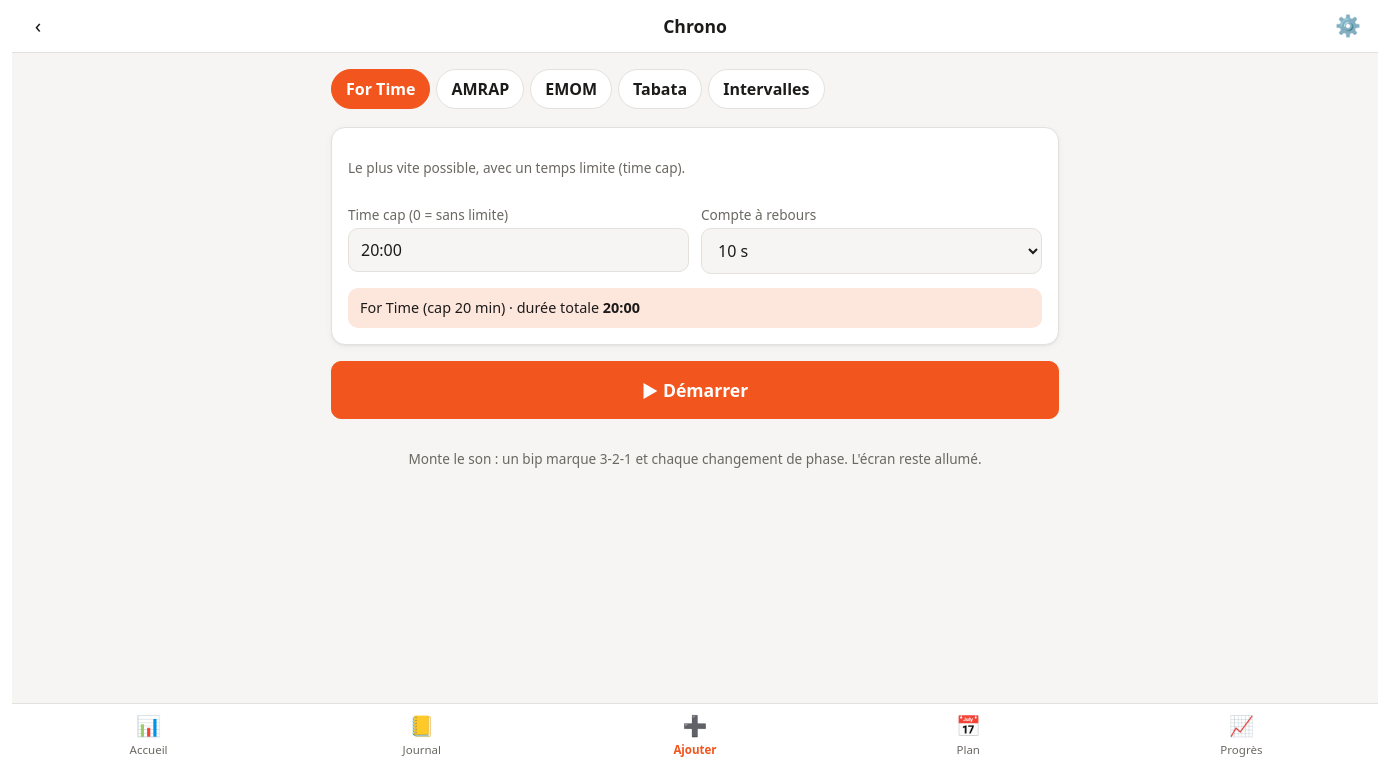
it: Chrono AMRAP › pause : le temps ne défile plus
The width and height of the screenshot is (1390, 768).
Step 1. Select "Aucun" in the dropdown labelled "Compte à rebours" → (872, 251), box [701,228,1042,274]
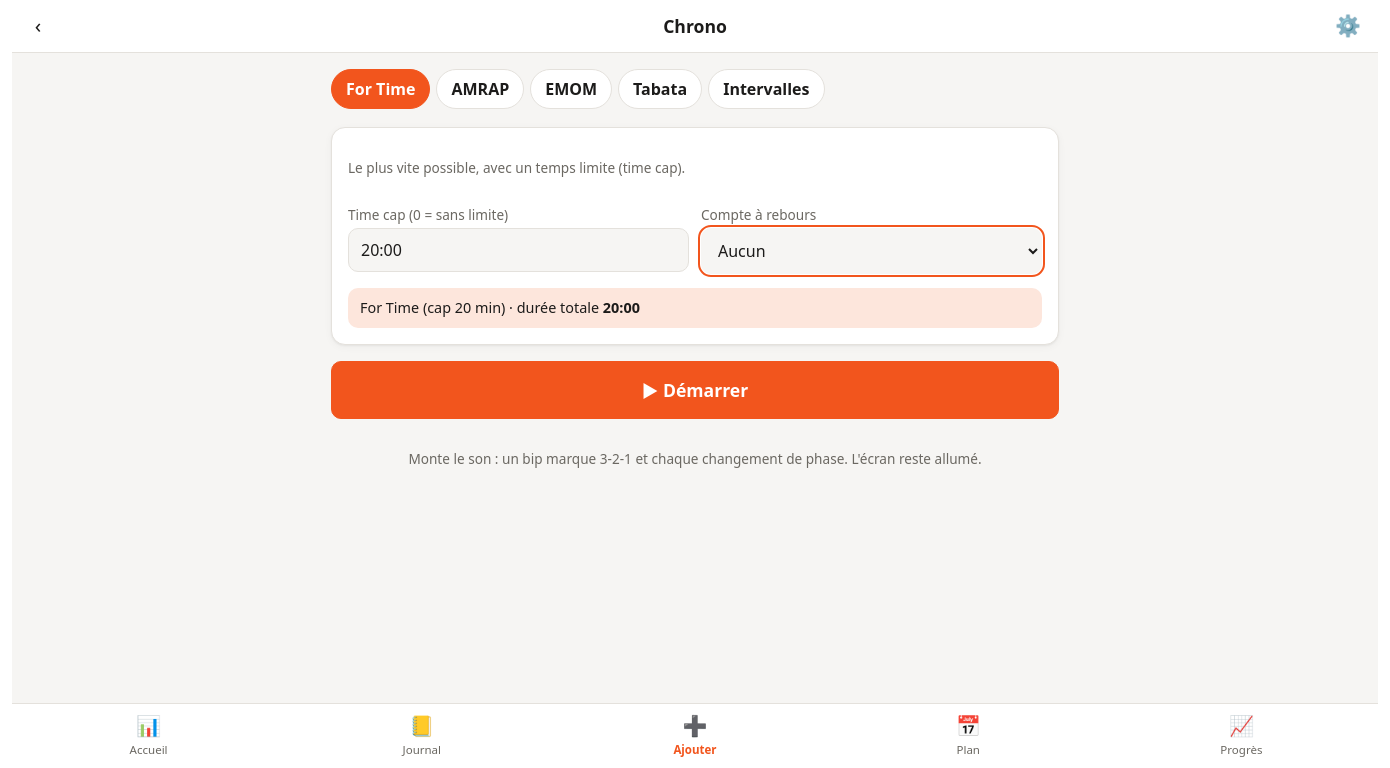
Step 2. Click the button "▶ Démarrer" → (695, 390), box [331,361,1059,419]
Wait 5000 ms
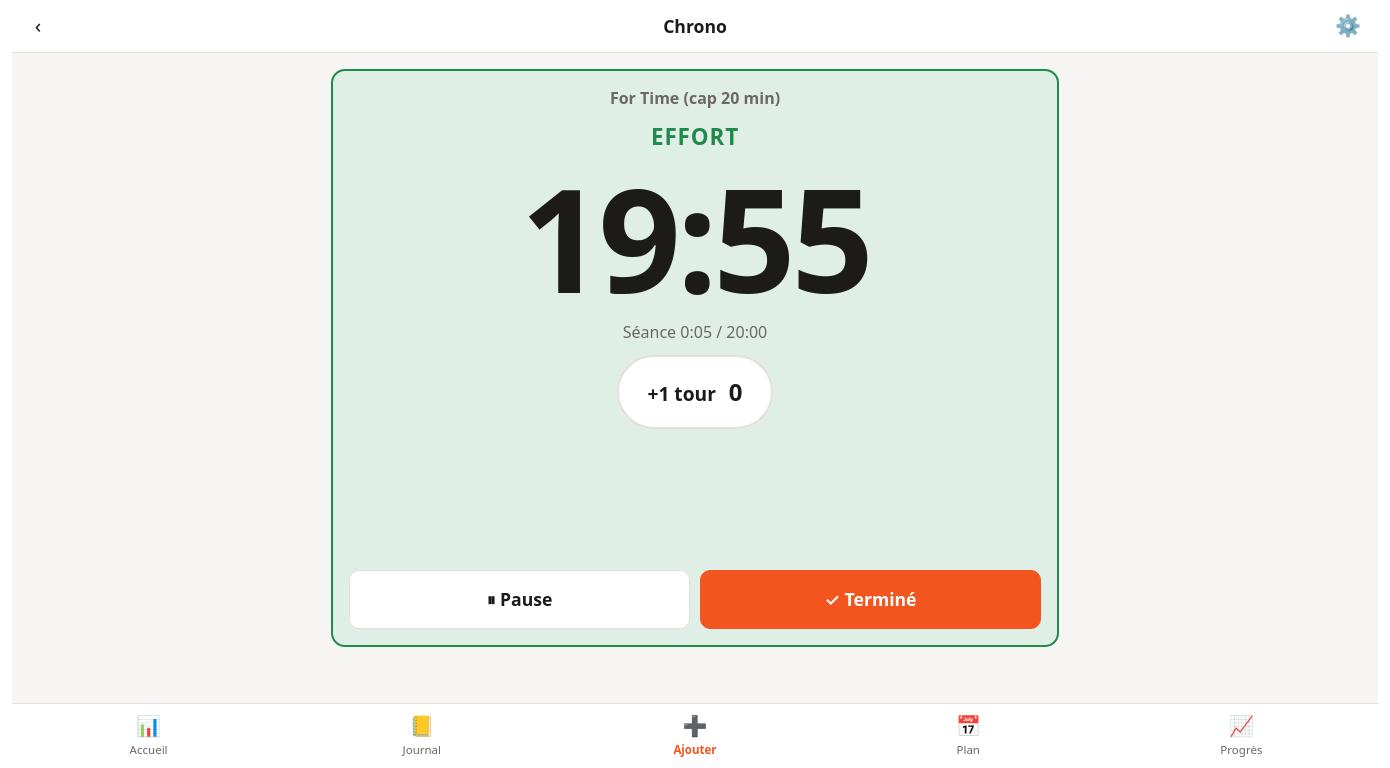
Step 3. Click the button "⏸ Pause" → (520, 600), box [349,570,690,629]
Wait 30000 ms
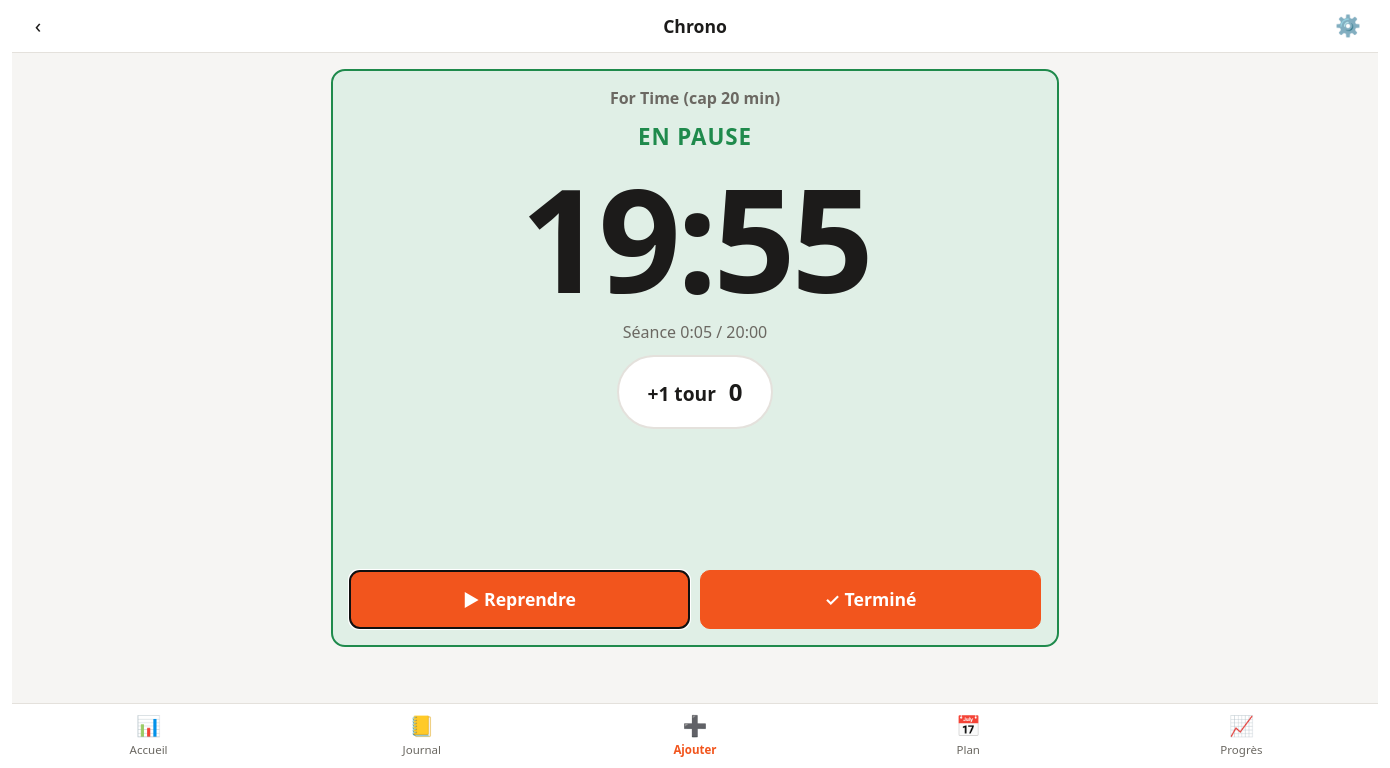
Result: the text "En pause" is shown at [638,121,752,153]
